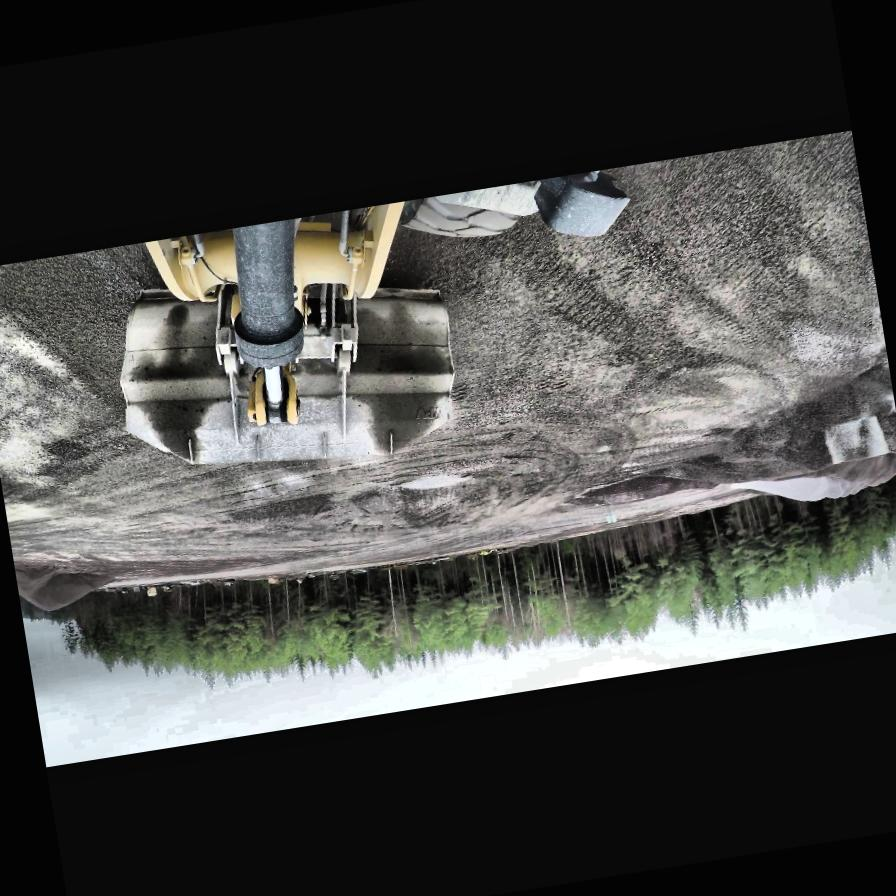anchor: (240, 361, 302, 431)
pile of gravel: (558, 334, 896, 536), (724, 452, 896, 516), (14, 550, 119, 615)
